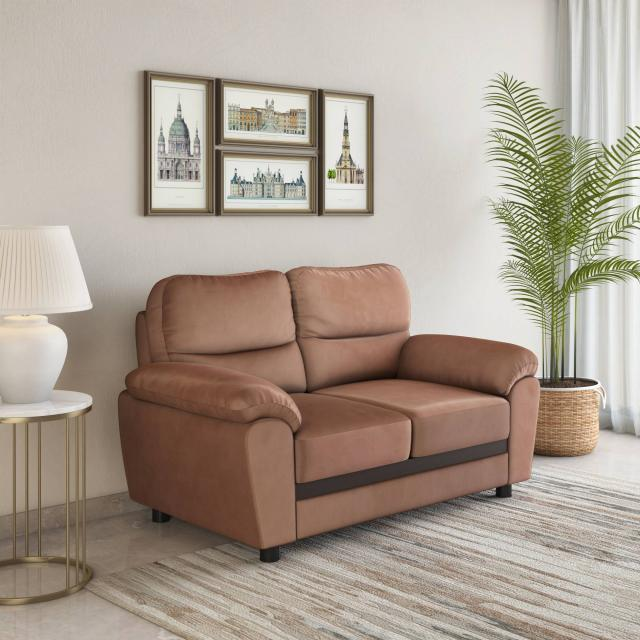sofa: (117, 262, 541, 563)
